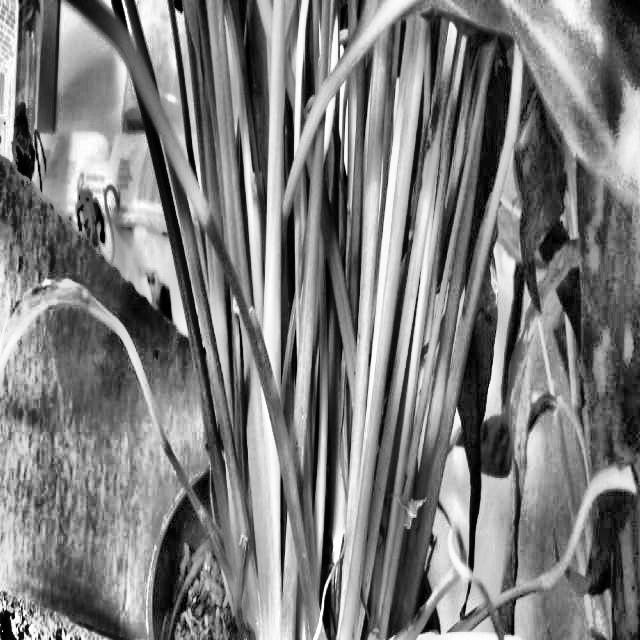plants: (83, 0, 639, 639), (478, 300, 560, 639)
